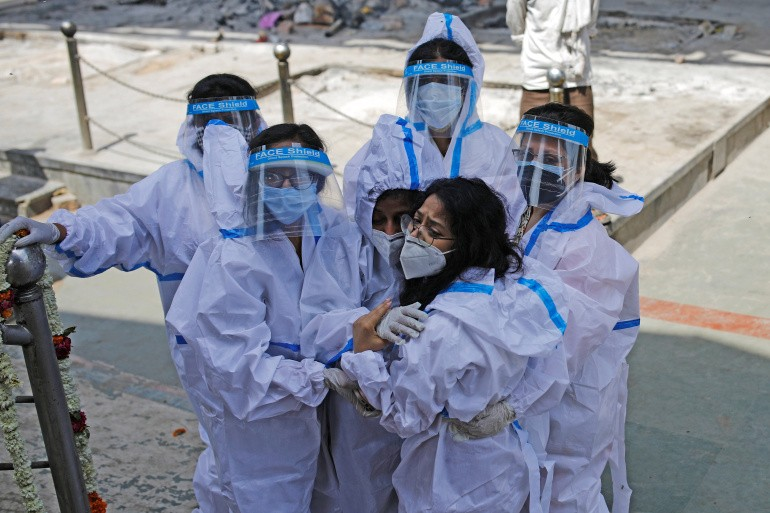Coverall: (160, 211, 369, 513), (358, 275, 565, 513), (506, 194, 645, 513), (54, 153, 260, 362), (337, 110, 527, 247)
Face_Shield: (497, 110, 588, 219), (241, 147, 350, 238), (395, 60, 484, 144), (183, 95, 272, 168)
Gloves: (373, 296, 433, 360), (443, 397, 517, 444), (1, 213, 62, 250)
with_mask: (512, 140, 564, 208), (400, 209, 449, 281), (259, 171, 320, 223), (412, 78, 465, 130), (198, 111, 244, 161), (371, 208, 406, 266)
